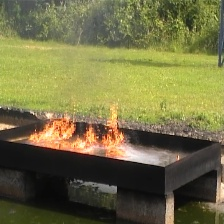fire: (23, 101, 141, 157)
